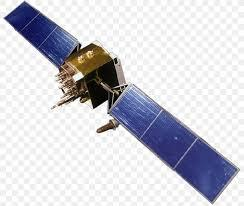body: (60, 39, 128, 109)
solar: (108, 84, 240, 204), (2, 1, 77, 68)
thruster: (95, 118, 120, 134)
